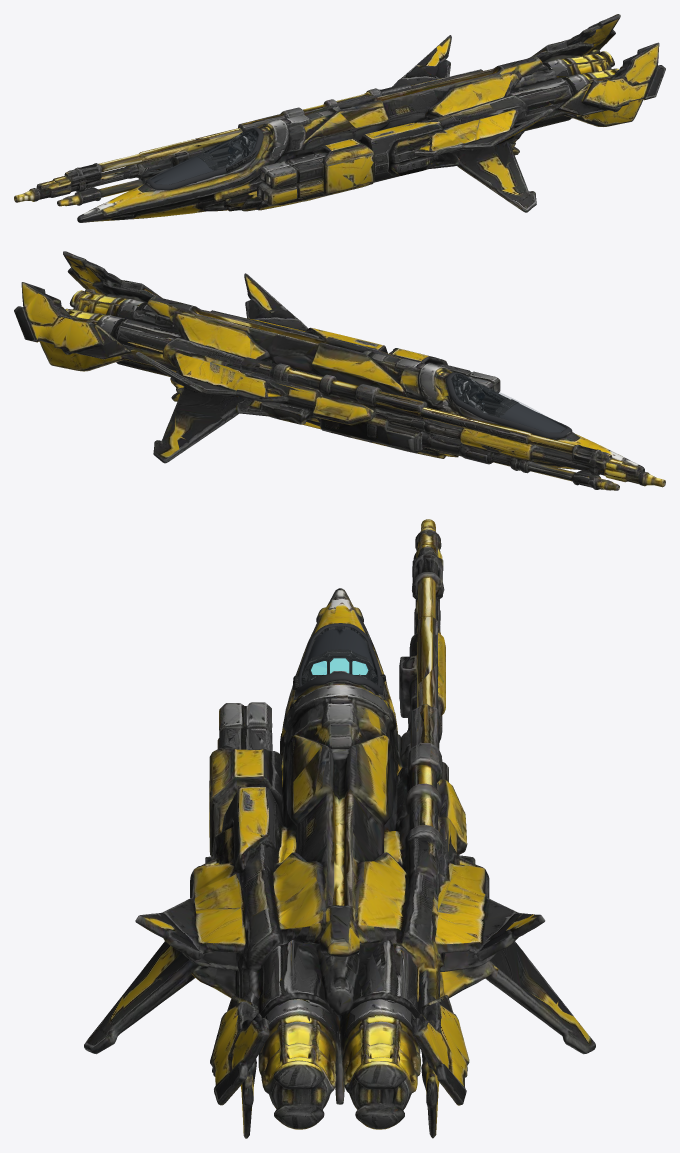
Rendered from puncture.glb.
3 views of the same model, one above another, from view 1: azimuth 30°, elevation 25°; view 2: azimuth 150°, elevation 25°; view 3: azimuth 270°, elevation 25° (orthographic). The views are drawn at different scales.
Visible parts, largest first — view 1: puncture_game_hull, puncture_game_glass, puncture_game_canopy_frame, puncture_game_hood, puncture_game_cockpit, puncture_game_tub; view 2: puncture_game_hull, puncture_game_glass, puncture_game_canopy_frame, puncture_game_hood, puncture_game_cockpit; view 3: puncture_game_hull, puncture_game_glass, puncture_game_console, puncture_game_canopy_frame, puncture_game_hood.
Part boxes in pixels (x1=…): puncture_game_hull: x1=14, y1=14, x2=665, y2=222; puncture_game_glass: x1=151, y1=130, x2=257, y2=183; puncture_game_canopy_frame: x1=145, y1=127, x2=263, y2=190; puncture_game_hood: x1=151, y1=157, x2=213, y2=184; puncture_game_cockpit: x1=224, y1=131, x2=257, y2=167; puncture_game_tub: x1=151, y1=129, x2=258, y2=179; puncture_game_hull: x1=14, y1=251, x2=665, y2=490; puncture_game_glass: x1=452, y1=374, x2=565, y2=431; puncture_game_canopy_frame: x1=446, y1=372, x2=572, y2=438; puncture_game_hood: x1=500, y1=403, x2=565, y2=432; puncture_game_cockpit: x1=452, y1=376, x2=487, y2=414; puncture_game_hull: x1=84, y1=519, x2=595, y2=1138; puncture_game_glass: x1=302, y1=626, x2=377, y2=684; puncture_game_console: x1=302, y1=649, x2=377, y2=684; puncture_game_canopy_frame: x1=295, y1=623, x2=383, y2=696; puncture_game_hood: x1=304, y1=629, x2=374, y2=670.
Size of the model in its own units: 1.91 by 0.2894 by 0.7001.
9 materials, 5 textured.
